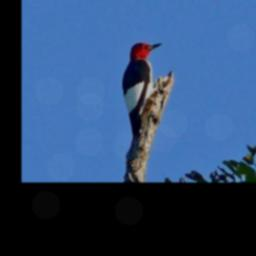Woodpecker: (111, 33, 167, 160)
